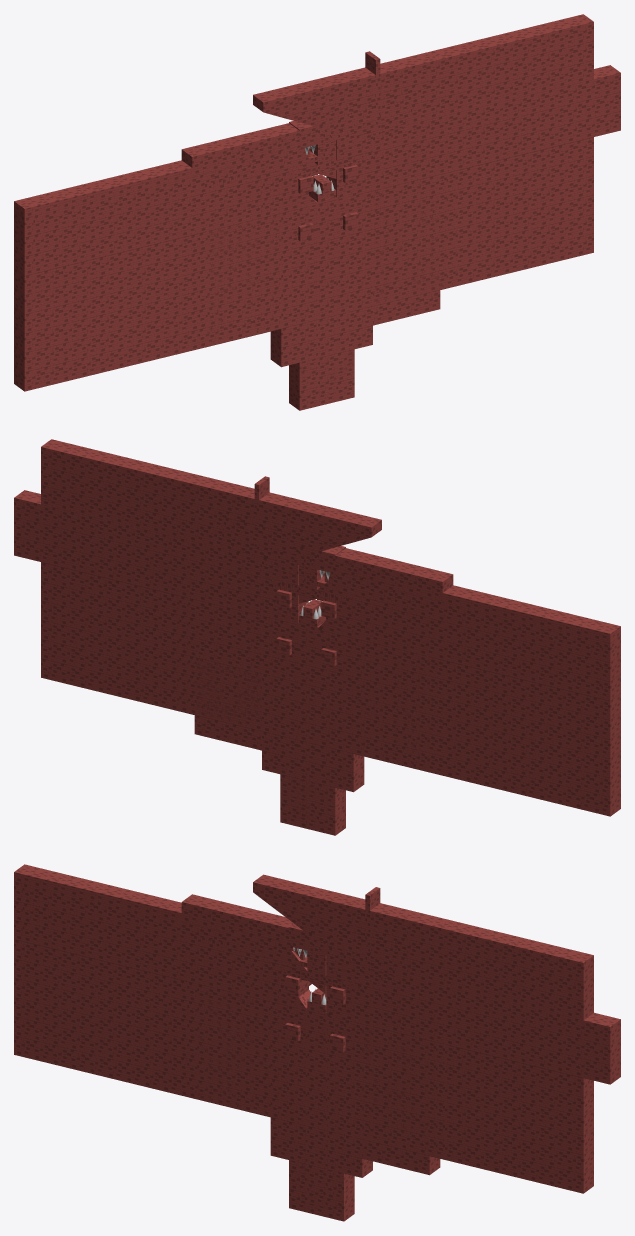
The picture shows the model from 3 angles, top to bottom: view 1: azimuth 30°, elevation 25°; view 2: azimuth 150°, elevation 25°; view 3: azimuth 330°, elevation 25°; orthographic projection.
Parts seen in each view (by area): view 1: Ground.018, Ground.003, Ground.025, Ground.011, Ground.024, One_Tile.010, One_Tile.019, One_Tile.005, One_Tile.008, Ground.023, One_Tile.011, One_Tile.012 (+10 smaller); view 2: Ground.018, Ground.003, Ground.013, Ground.010, Upper_Half.005, One_Tile.010, One_Tile.019, One_Tile.008, One_Tile.005, One_Tile.011, One_Tile.012, Ground.009 (+8 smaller); view 3: Ground.018, Ground.003, Ground.011, Ground.024, Ground.023, Ground.025, One_Tile.005, One_Tile.010, One_Tile.008, One_Tile.019, Ground.008, Ground.009 (+11 smaller).
Boxes of the visible parts, <box> form: Ground.018: <box>14,14,593,391</box>; Ground.003: <box>33,65,620,273</box>; Ground.025: <box>198,173,455,348</box>; Ground.011: <box>207,177,446,346</box>; Ground.024: <box>208,173,446,333</box>; One_Tile.010: <box>270,209,299,367</box>; One_Tile.019: <box>181,123,299,175</box>; One_Tile.005: <box>318,200,336,357</box>; One_Tile.008: <box>354,191,372,348</box>; Ground.023: <box>217,171,455,339</box>; One_Tile.011: <box>298,207,316,362</box>; One_Tile.012: <box>338,195,356,353</box>; Ground.018: <box>41,439,620,816</box>; Ground.003: <box>14,490,601,713</box>; Ground.013: <box>198,656,437,773</box>; Ground.010: <box>188,662,427,771</box>; Upper_Half.005: <box>194,657,261,750</box>; One_Tile.010: <box>335,634,364,792</box>; One_Tile.019: <box>335,548,453,600</box>; One_Tile.008: <box>262,616,280,773</box>; One_Tile.005: <box>298,634,316,782</box>; One_Tile.011: <box>318,630,336,787</box>; One_Tile.012: <box>278,620,296,778</box>; Ground.009: <box>280,775,345,835</box>; Ground.018: <box>14,864,593,1193</box>; Ground.003: <box>22,884,620,1084</box>; Ground.011: <box>197,984,435,1149</box>; Ground.024: <box>197,984,435,1157</box>; Ground.023: <box>206,988,444,1159</box>; Ground.025: <box>187,981,443,1141</box>; One_Tile.005: <box>307,1011,325,1168</box>; One_Tile.010: <box>270,1002,288,1159</box>; One_Tile.008: <box>344,1020,372,1177</box>; One_Tile.019: <box>181,894,293,940</box>; Ground.008: <box>252,954,380,1028</box>; Ground.009: <box>289,1126,354,1221</box>.
Size of what is drawn, in the model's own units: 30.65 by 16.3 by 1.35.
Materials: 5 (1 with a texture image).
